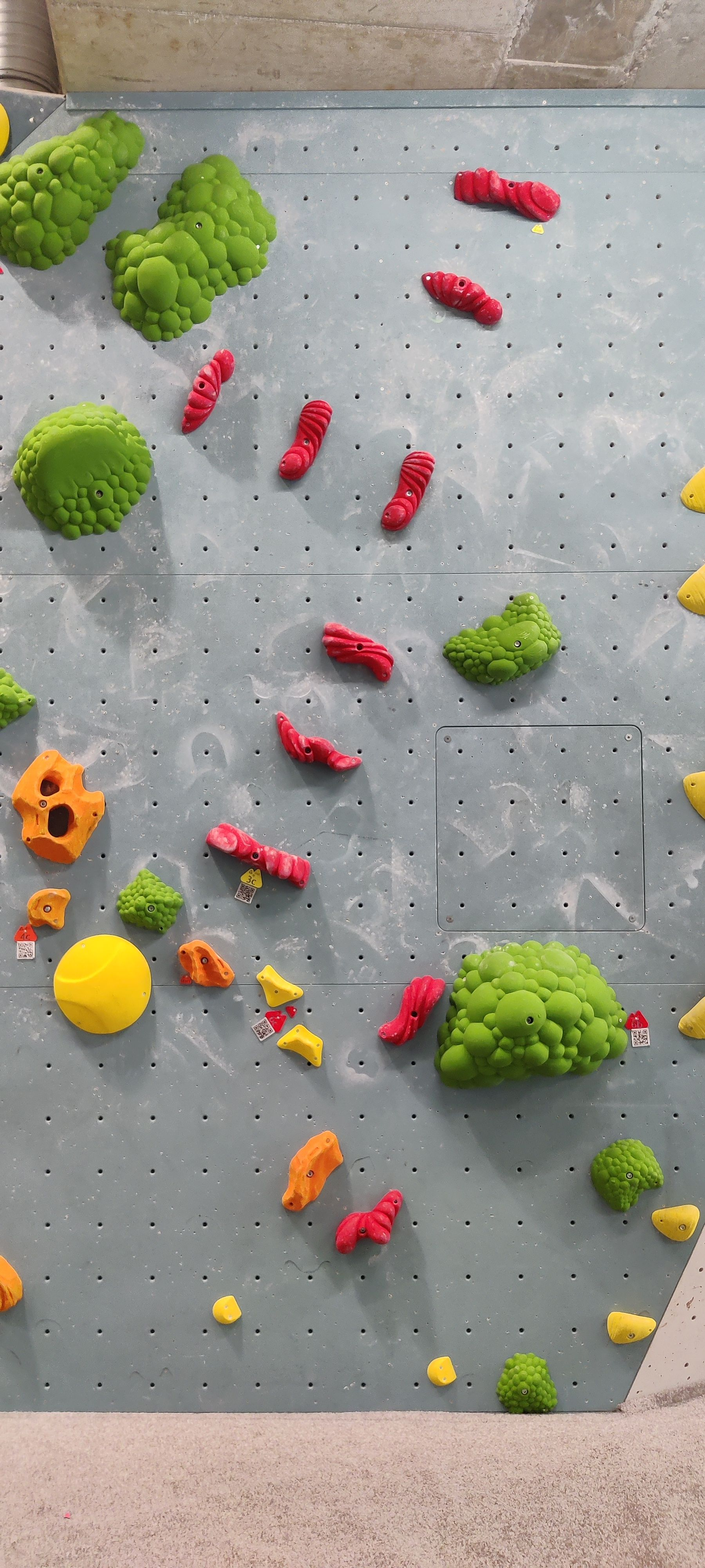hold: (105, 158, 275, 341), (435, 942, 627, 1087), (0, 112, 143, 269), (13, 404, 152, 539), (443, 592, 560, 683), (13, 750, 105, 864), (54, 935, 151, 1034), (207, 824, 310, 887), (454, 167, 560, 221), (590, 1139, 664, 1211), (277, 712, 361, 771), (282, 1131, 343, 1211), (378, 976, 445, 1045), (381, 450, 435, 531), (117, 869, 184, 934), (422, 271, 502, 325), (182, 350, 234, 433), (279, 400, 332, 480), (336, 1190, 403, 1253), (323, 623, 393, 682), (497, 1353, 557, 1413), (178, 940, 235, 988), (0, 668, 36, 728), (256, 964, 303, 1008), (277, 1024, 322, 1067), (27, 888, 70, 930), (652, 1205, 700, 1241), (607, 1312, 656, 1344), (678, 565, 705, 616), (0, 1256, 23, 1311), (678, 998, 705, 1039), (681, 467, 705, 513), (683, 771, 705, 818), (428, 1356, 456, 1386), (213, 1295, 241, 1324), (0, 105, 10, 156)
